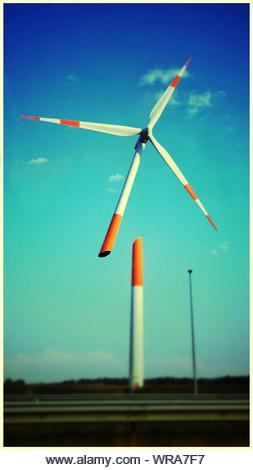faulty: (20, 56, 188, 321)
